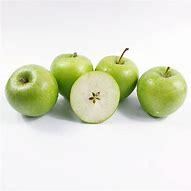apple: (4, 64, 75, 117), (137, 65, 188, 119), (93, 53, 147, 99), (68, 73, 119, 121), (56, 53, 101, 95)
